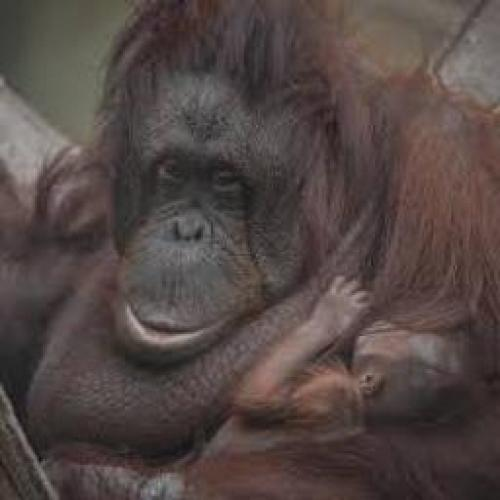orangutan-endangered: (20, 0, 500, 491), (190, 273, 483, 460)
